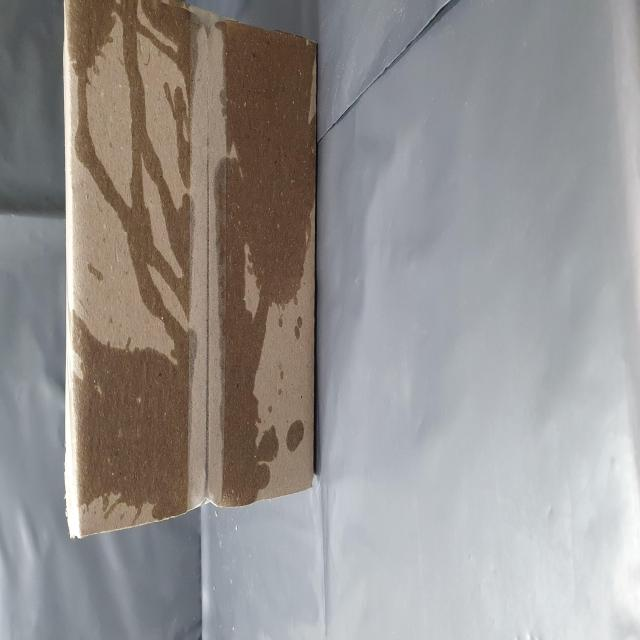wet: (63, 107, 360, 348), (78, 378, 348, 568)
